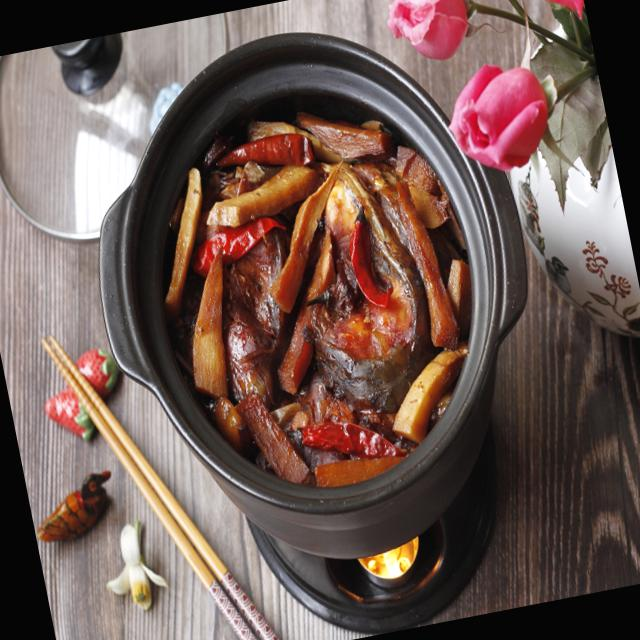ca kho: (165, 112, 471, 486)
ot: (192, 217, 285, 276), (303, 422, 406, 458), (350, 217, 390, 307), (218, 133, 315, 165)
